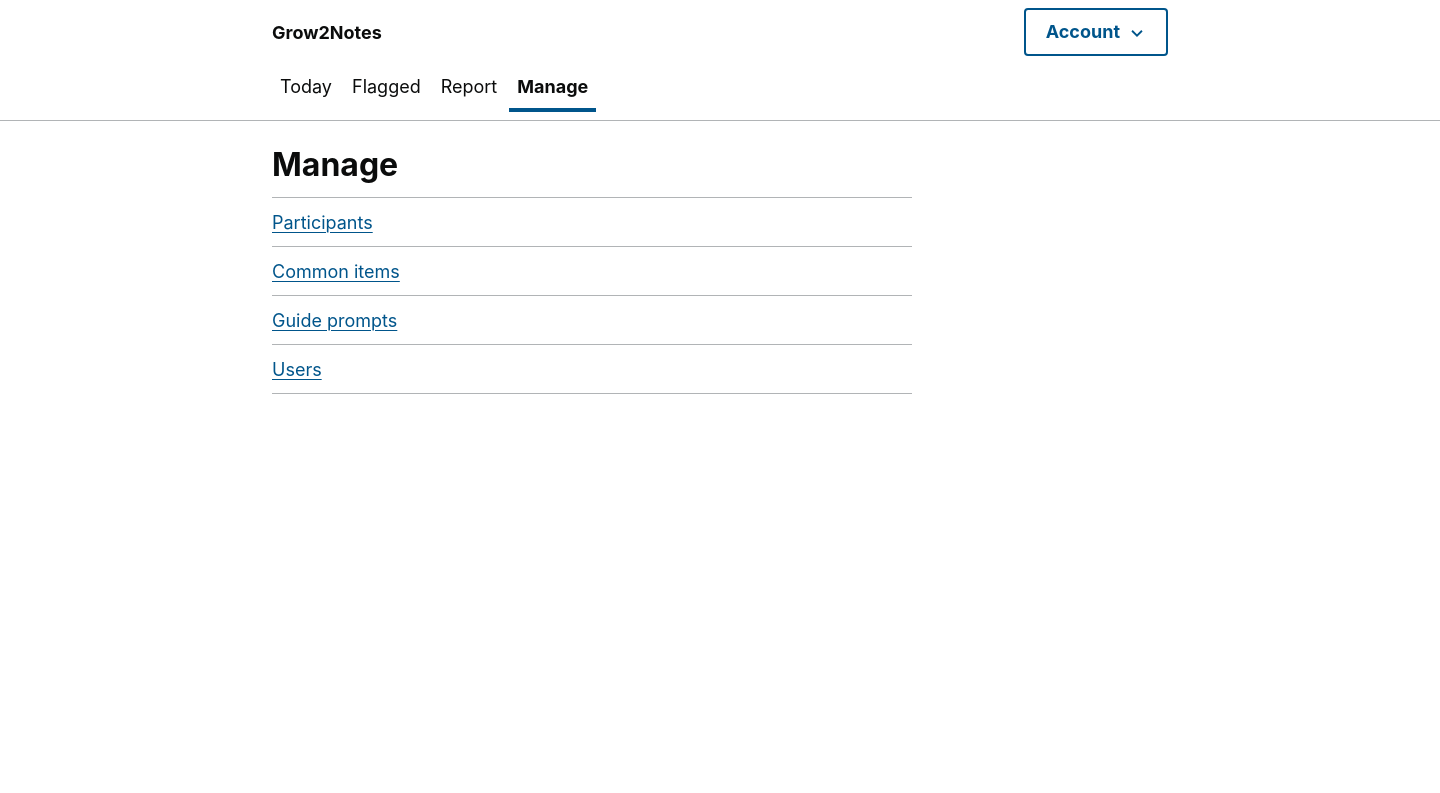
Test case: Manage › opens the groups from Common items, not Page not found, with Manage still marked
Click the link "Common items" at (336, 271), box left=272, top=260, right=400, bottom=282
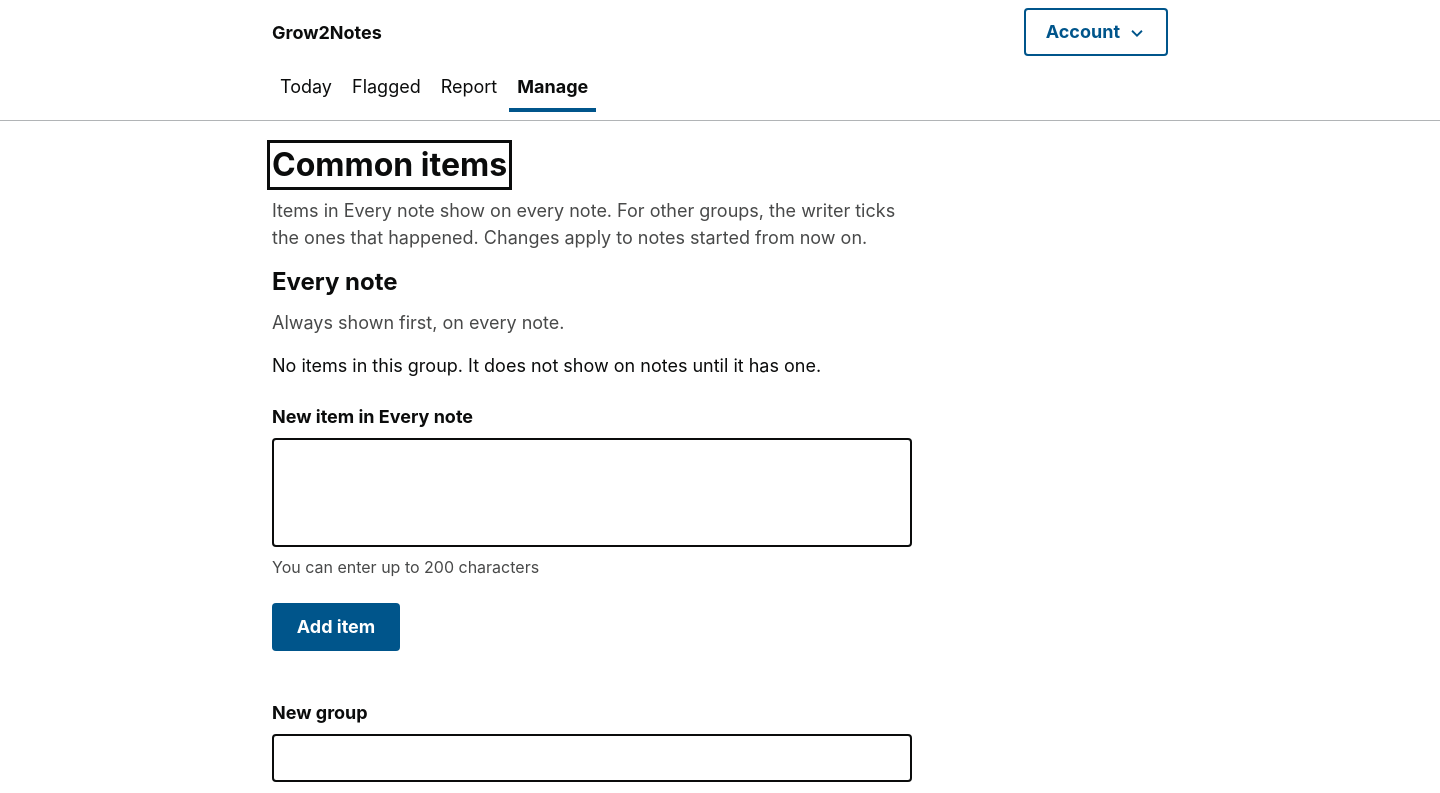
Expected: the element "Every note" is shown, left=271, top=267, right=912, bottom=651
